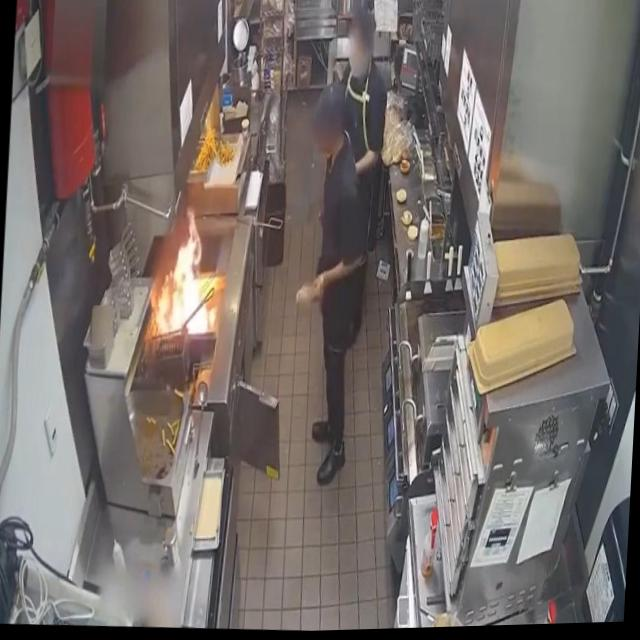fire: (149, 198, 219, 343)
